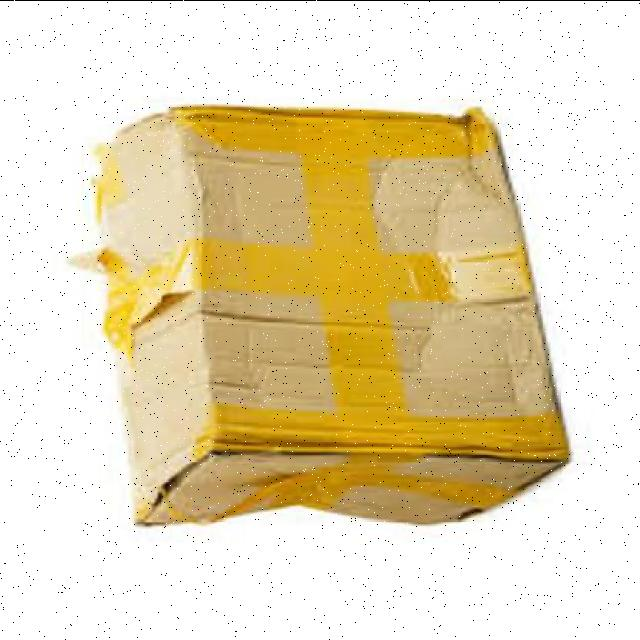normal: (70, 90, 572, 528)
